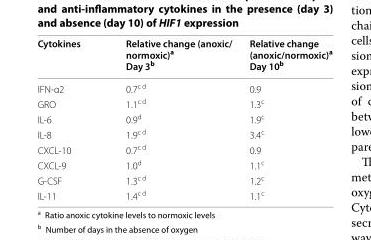table: (36, 37, 331, 201)
table column: (102, 37, 240, 201), (240, 37, 331, 201), (36, 37, 102, 201)
table column header: (36, 37, 331, 76)
table row: (36, 37, 331, 76), (36, 76, 331, 95), (36, 110, 331, 126), (36, 171, 331, 187), (36, 95, 331, 110), (36, 126, 331, 141), (36, 141, 331, 156), (36, 156, 331, 171), (36, 187, 331, 201)
